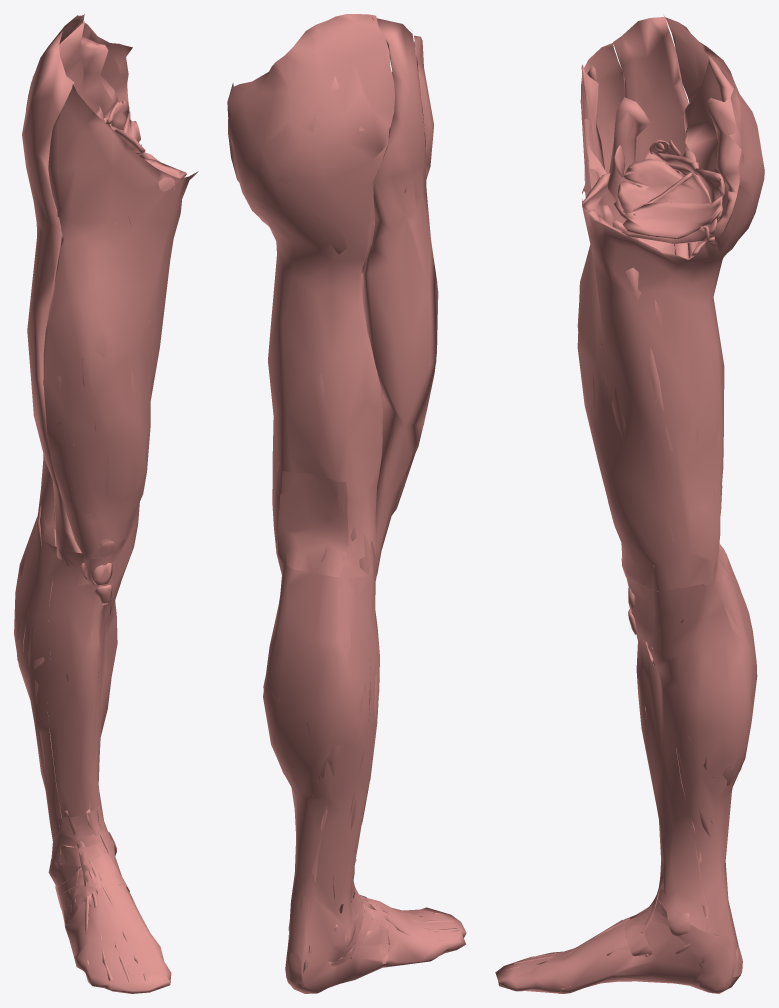
Rendered from lod1-leg-right-muscle.glb.
3 renders of one model, left to right at view 1: azimuth 30°, elevation 25°; view 2: azimuth 150°, elevation 25°; view 3: azimuth 270°, elevation 25°, orthographic. The views are drawn at different scales.
Visible parts, largest first — view 1: part::Fascia lata.r, part::Crural fascia.r, part::Iliotibial tract.r, part::Gluteus maximus muscle.r, part::Superior fibular retinaculum.r, part::Inferior extensor retinaculum of ankle.r, part::Superior extensor retinaculum of ankle.r, part::Tendon of extensor digitorum longus.r, part::Rectus femoris muscle.r, part::Pectineus muscle.r, part::Coccygeus muscle.r, part::Inferior fibular retinaculum.r; view 2: part::Fascia lata.r, part::Crural fascia.r, part::Iliotibial tract.r, part::Popliteal fascia.r, part::Gluteus maximus muscle.r, part::Lateral head of gastrocnemius.r, part::Long head of biceps femoris.r, part::Superior fibular retinaculum.r, part::Inferior fibular retinaculum.r; view 3: part::Fascia lata.r, part::Crural fascia.r, part::Iliotibial tract.r, part::Gluteus maximus muscle.r, part::Pubococcygeus muscle.r, part::Obturator internus.r, part::Flexor retinaculum of ankle.r, part::Rectus femoris muscle.r, part::Sartorius muscle.r, part::Superior fibular retinaculum.r, part::Iliococcygeus muscle.r, part::Pectineus muscle.r (+2 smaller).
Boxes of the visible parts, bbox=[...] form: part::Fascia lata.r: bbox=[26, 14, 198, 558]; part::Crural fascia.r: bbox=[14, 517, 171, 993]; part::Iliotibial tract.r: bbox=[22, 31, 87, 579]; part::Gluteus maximus muscle.r: bbox=[59, 21, 117, 117]; part::Superior fibular retinaculum.r: bbox=[57, 846, 129, 895]; part::Inferior extensor retinaculum of ankle.r: bbox=[60, 841, 114, 866]; part::Superior extensor retinaculum of ankle.r: bbox=[59, 808, 101, 836]; part::Tendon of extensor digitorum longus.r: bbox=[85, 860, 147, 982]; part::Rectus femoris muscle.r: bbox=[54, 247, 110, 586]; part::Pectineus muscle.r: bbox=[143, 158, 186, 194]; part::Coccygeus muscle.r: bbox=[107, 100, 129, 130]; part::Inferior fibular retinaculum.r: bbox=[65, 884, 100, 928]; part::Fascia lata.r: bbox=[227, 14, 438, 578]; part::Crural fascia.r: bbox=[263, 551, 466, 993]; part::Iliotibial tract.r: bbox=[362, 17, 437, 577]; part::Popliteal fascia.r: bbox=[278, 471, 348, 576]; part::Gluteus maximus muscle.r: bbox=[257, 76, 388, 272]; part::Lateral head of gastrocnemius.r: bbox=[307, 549, 365, 783]; part::Long head of biceps femoris.r: bbox=[308, 350, 375, 582]; part::Superior fibular retinaculum.r: bbox=[330, 895, 376, 967]; part::Inferior fibular retinaculum.r: bbox=[373, 901, 388, 963]; part::Fascia lata.r: bbox=[577, 16, 764, 591]; part::Crural fascia.r: bbox=[495, 558, 757, 993]; part::Iliotibial tract.r: bbox=[613, 17, 688, 591]; part::Gluteus maximus muscle.r: bbox=[674, 56, 751, 252]; part::Pubococcygeus muscle.r: bbox=[623, 196, 722, 239]; part::Obturator internus.r: bbox=[617, 159, 693, 212]; part::Flexor retinaculum of ankle.r: bbox=[677, 925, 732, 993]; part::Rectus femoris muscle.r: bbox=[577, 97, 650, 331]; part::Sartorius muscle.r: bbox=[581, 64, 673, 665]; part::Superior fibular retinaculum.r: bbox=[622, 906, 668, 956]; part::Iliococcygeus muscle.r: bbox=[652, 173, 717, 235]; part::Pectineus muscle.r: bbox=[582, 173, 626, 223].
Size of the model in its own units: 0.1611 by 0.9939 by 0.2519.
